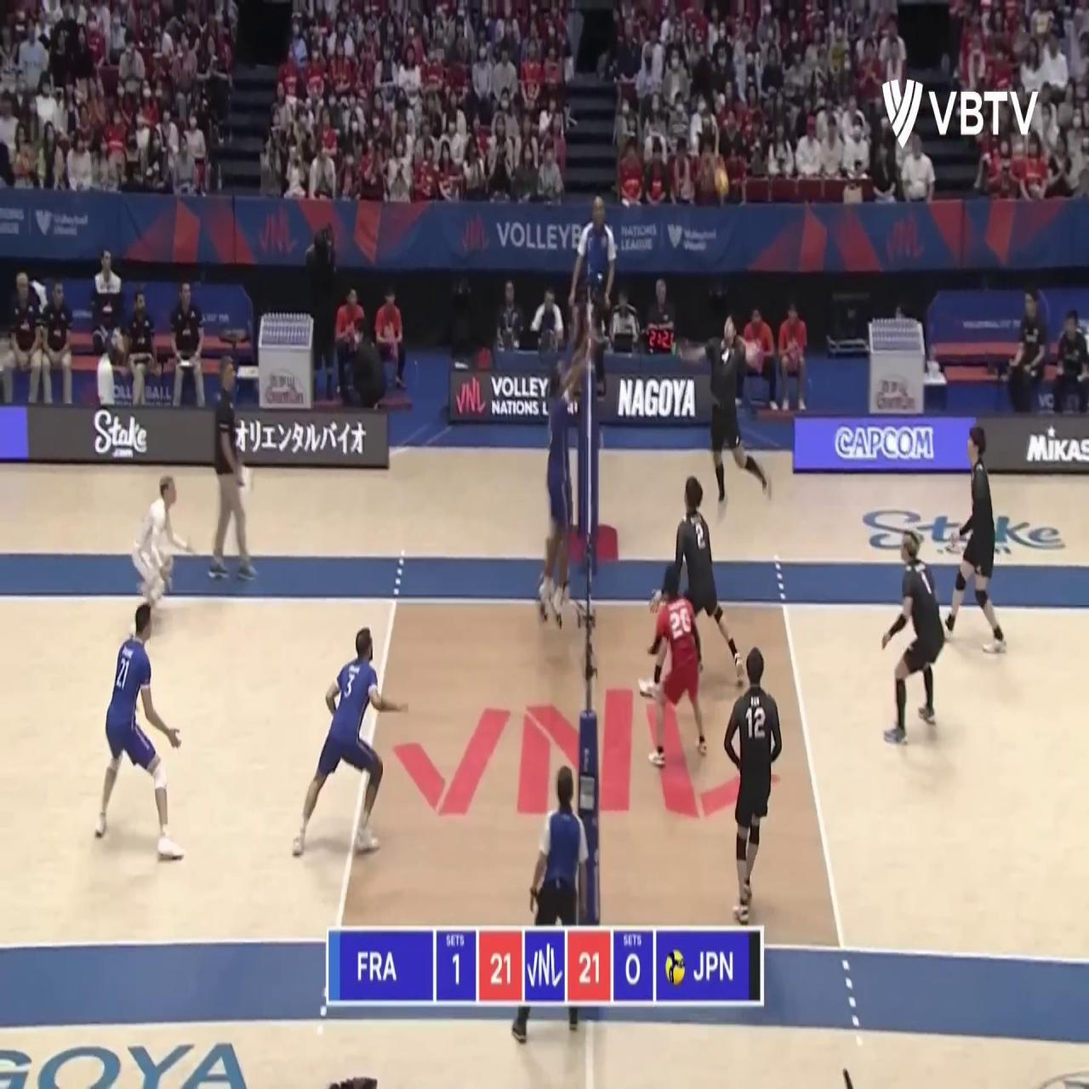ball: (713, 165, 730, 198)
